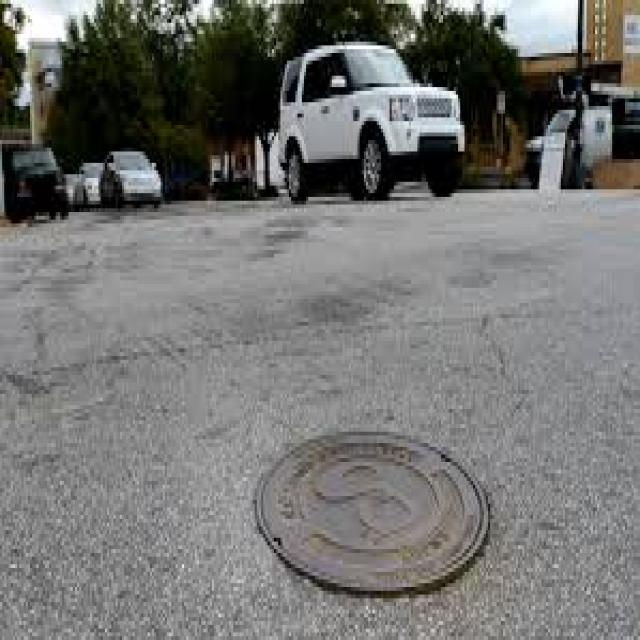manhole: (258, 428, 491, 596)
